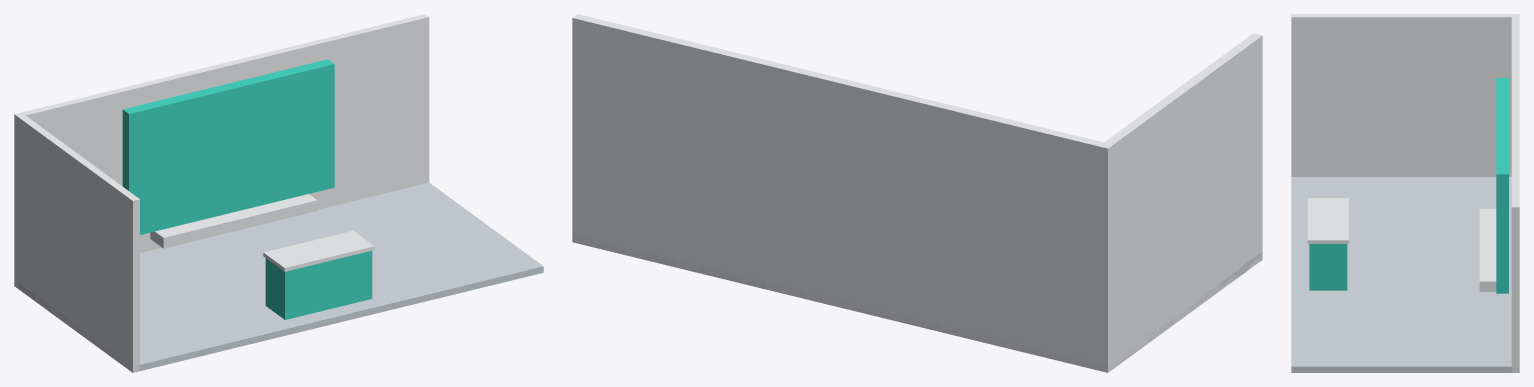
3 views of the same model, side by side, from view 1: azimuth 30°, elevation 25°; view 2: azimuth 150°, elevation 25°; view 3: azimuth 270°, elevation 25° (orthographic). The views are drawn at different scales.
Parts seen in each view (by area): view 1: Exhibition Booth Concept; view 2: Exhibition Booth Concept; view 3: Exhibition Booth Concept.
Boxes of the visible parts, x1=… form: Exhibition Booth Concept: x1=14, y1=14, x2=543, y2=372; Exhibition Booth Concept: x1=572, y1=14, x2=1262, y2=372; Exhibition Booth Concept: x1=1291, y1=14, x2=1519, y2=372.
Size of the model in its own units: 8 by 3.2 by 4.
